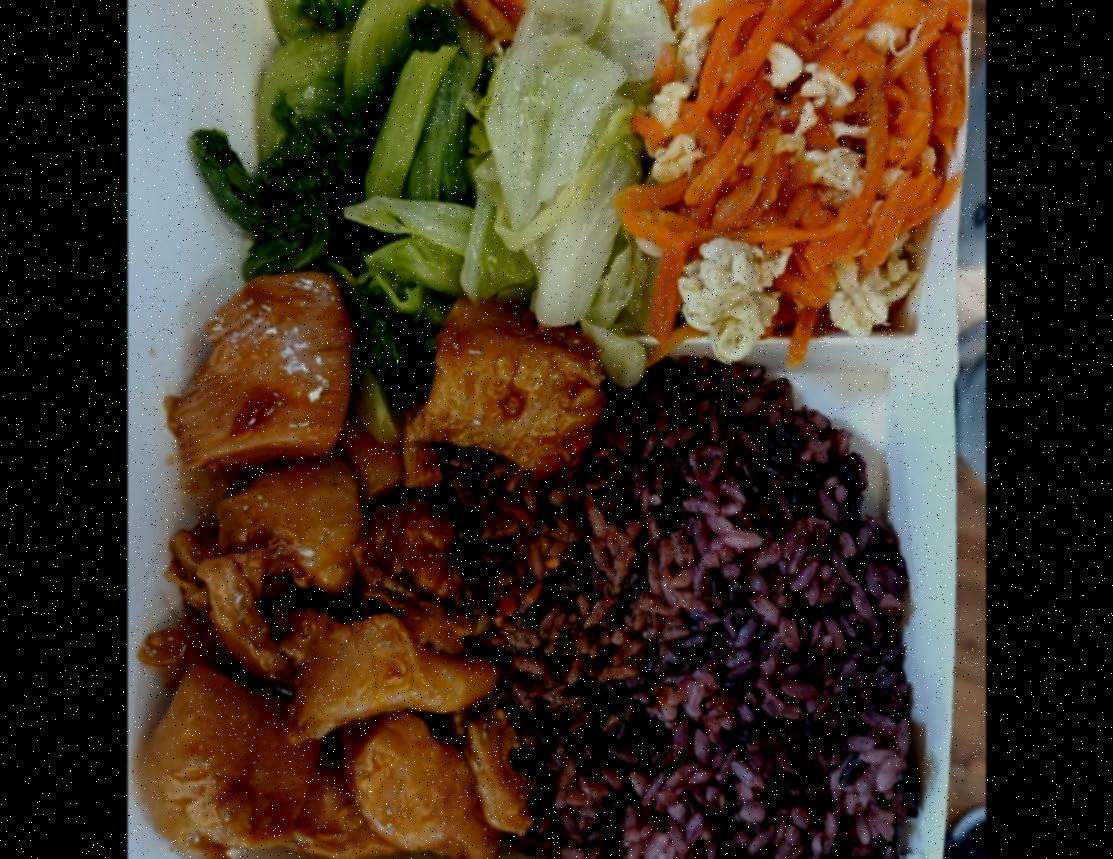box: (193, 0, 978, 859)
purple rice: (481, 361, 915, 859)
side dish: (196, 0, 514, 360), (650, 0, 956, 339), (478, 0, 667, 352)
spicy chicken: (133, 278, 589, 859)
